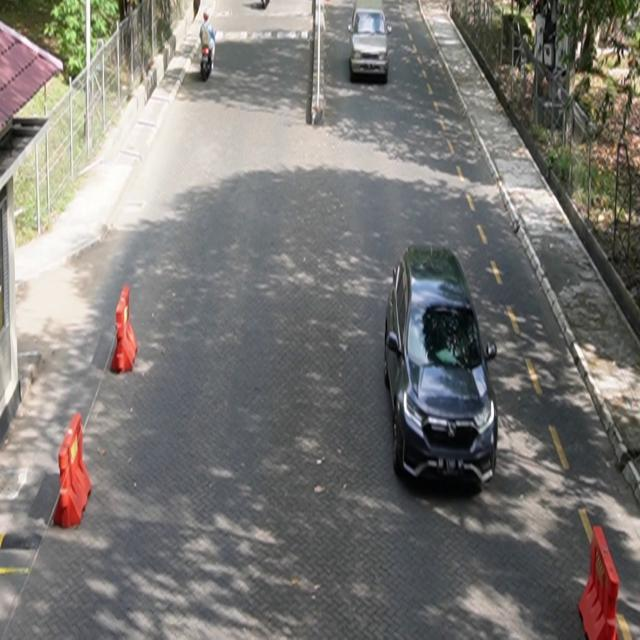car: (384, 243, 499, 489), (349, 7, 392, 84)
